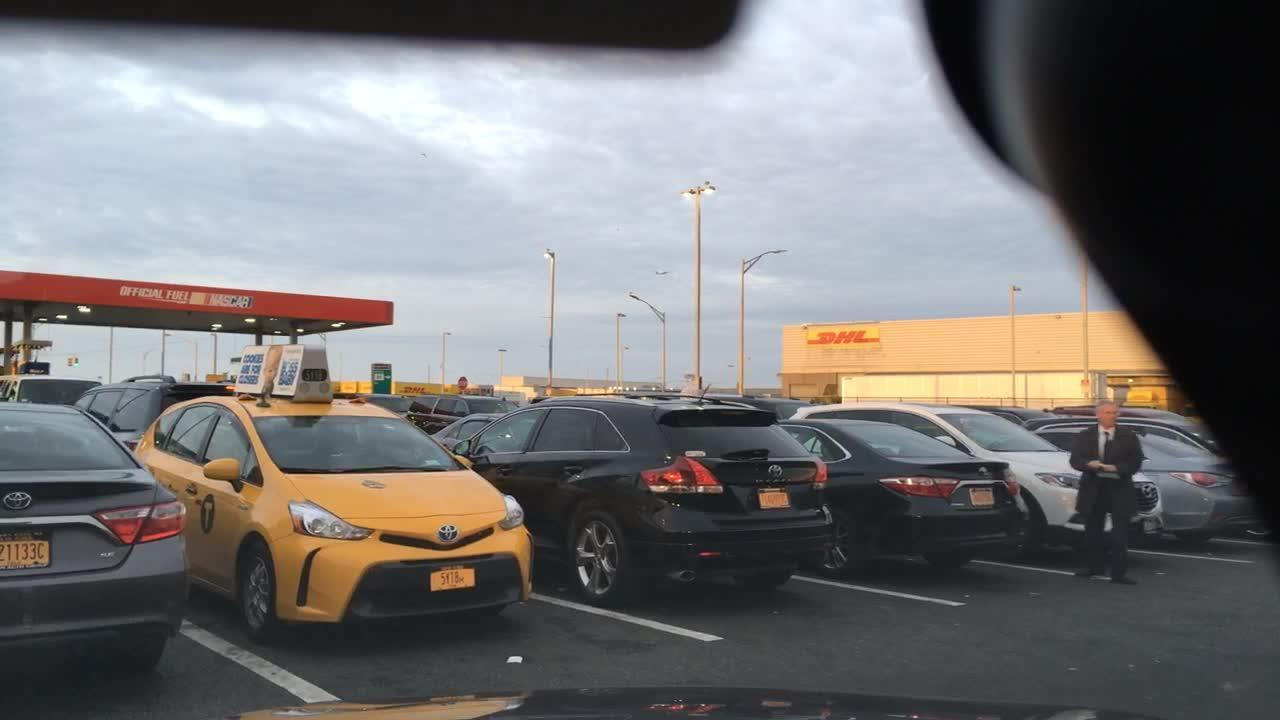Mazda: (1139, 482, 1159, 501)
Toyota: (0, 487, 38, 515), (430, 519, 465, 549), (765, 462, 786, 480)
